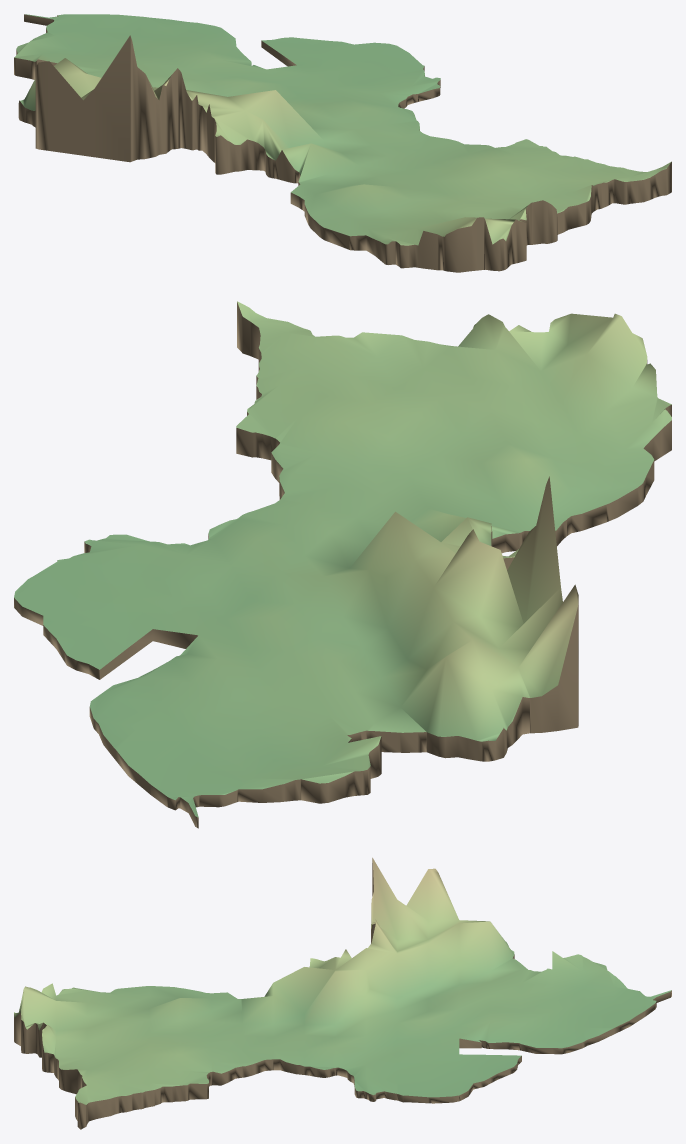
Rendered from GUY.glb.
3 views of the same model, one above another, from view 1: azimuth 30°, elevation 25°; view 2: azimuth 150°, elevation 25°; view 3: azimuth 270°, elevation 25° (orthographic). The views are drawn at different scales.
Visible parts, largest first — view 1: GUY; view 2: GUY; view 3: GUY.
Part boxes in pixels (x1,y1,x2,y2): GUY: (14, 14, 671, 272); GUY: (14, 301, 671, 828); GUY: (14, 857, 671, 1129).
Size of the model in its own units: 1.2 by 0.338 by 1.8.
